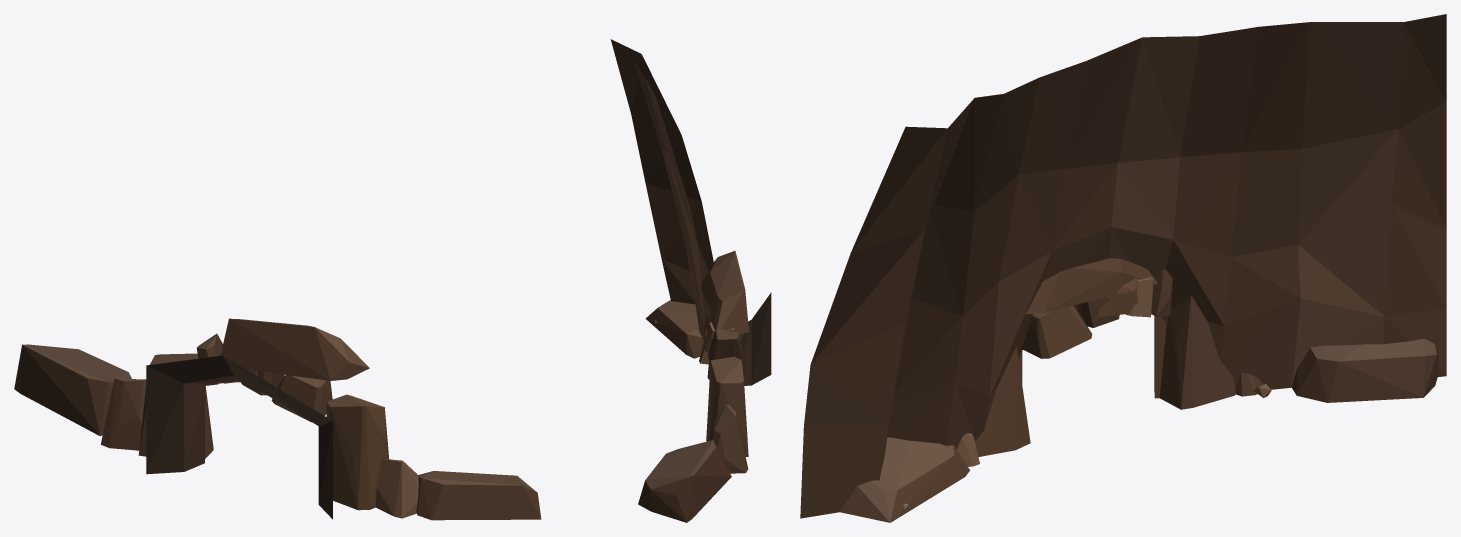
The model's file is tl_cave_main_wall_03_v01.glb.
The picture shows the model from 3 angles, left to right: view 1: azimuth 30°, elevation 25°; view 2: azimuth 150°, elevation 25°; view 3: azimuth 270°, elevation 25°; orthographic projection. The views are drawn at different scales.
Visible parts, largest first — view 1: tl_cave_main_wall_03_v01; view 2: tl_cave_main_wall_03_v01; view 3: tl_cave_main_wall_03_v01.
Part boxes in pixels (bbox=[...]): tl_cave_main_wall_03_v01: bbox=[14, 318, 541, 520]; tl_cave_main_wall_03_v01: bbox=[610, 39, 771, 522]; tl_cave_main_wall_03_v01: bbox=[800, 14, 1446, 522].
Bounding box in the file's own units: 14.25 × 15.22 × 21.14.
